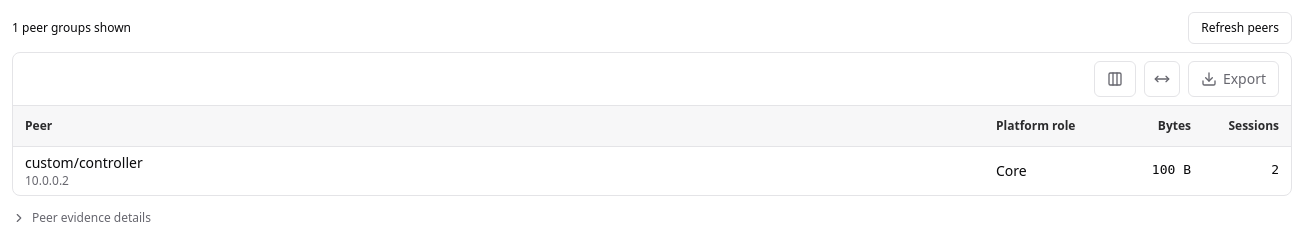
passes owned scope and platform preference, preserving actual custom-install roles in shown CSV
This screenshot has width=1304, height=239.
Expected: the table is shown, x1=13 y1=146 x2=1291 y2=194
Expected: the table shows "Core", x1=996 y1=160 x2=1027 y2=180
Step 1. Click the button "Export" → (1233, 79), box x1=1188 y1=61 x2=1279 y2=97
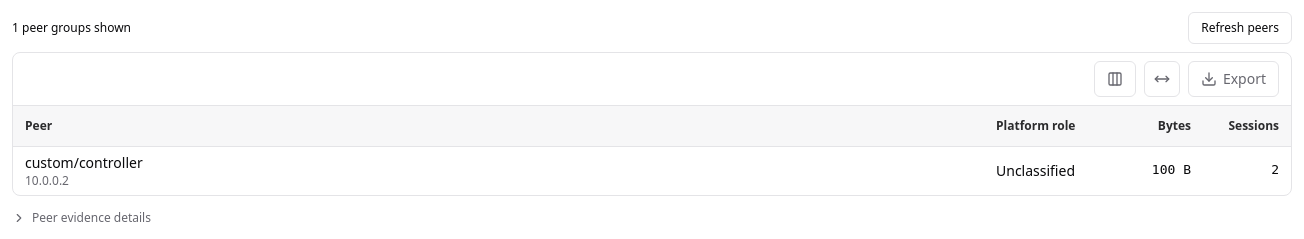
Expected: the table shows "Unclassified", x1=996 y1=160 x2=1075 y2=180
Expected: the text "Core" is gone
